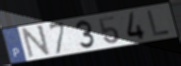3: (75, 19, 96, 50)
4: (126, 10, 147, 42)
5: (96, 15, 120, 45)
7: (49, 21, 68, 56)
L: (146, 9, 172, 38)
N: (22, 24, 52, 60)
